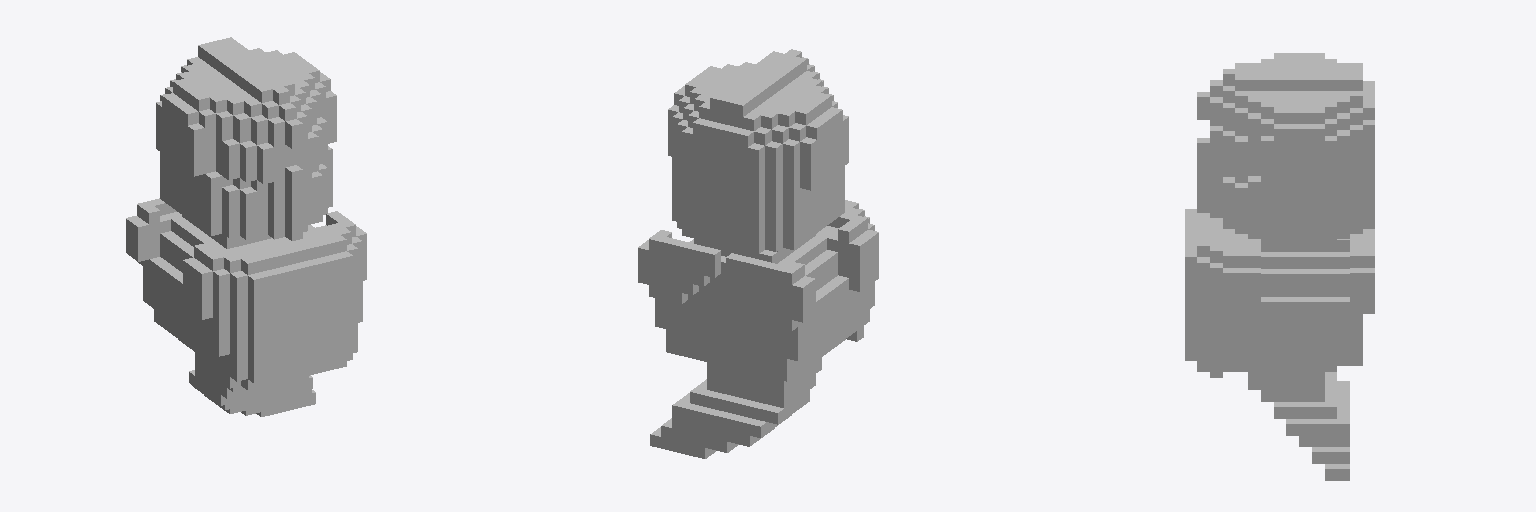
File: Phantom Worrior.obj
3 views of the same model, side by side, from view 1: azimuth 30°, elevation 25°; view 2: azimuth 150°, elevation 25°; view 3: azimuth 270°, elevation 25° (orthographic).
Visible parts, largest first — view 1: object 1; view 2: object 1; view 3: object 1.
Part boxes in pixels (left/top/right/bottom): object 1: left=126, top=37, right=366, bottom=416; object 1: left=638, top=49, right=878, bottom=458; object 1: left=1185, top=53, right=1374, bottom=480.
Size of the model in its own units: 1.5 by 3.2 by 1.5.